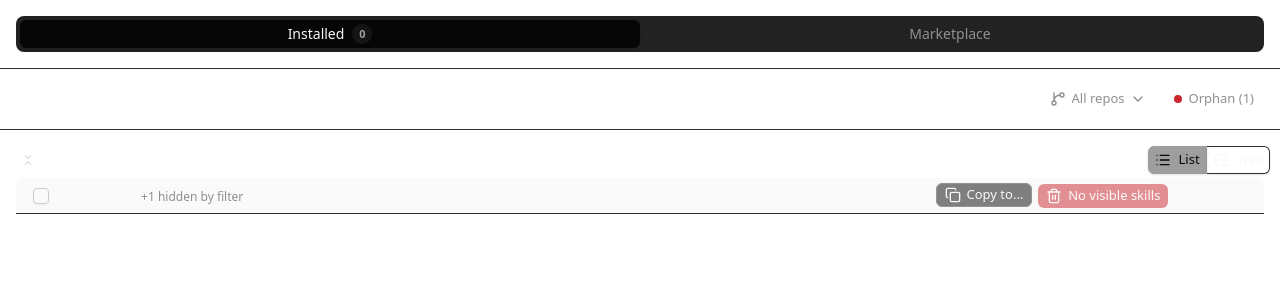
Test: MainContent list header integration › disables Copy to… with a reason while the source-view Orphan toggle owns the list
Click the button with aria-label "Orphan view, show 1 orphaned skill" at (1214, 99), box 1164,85 -> 1264,113
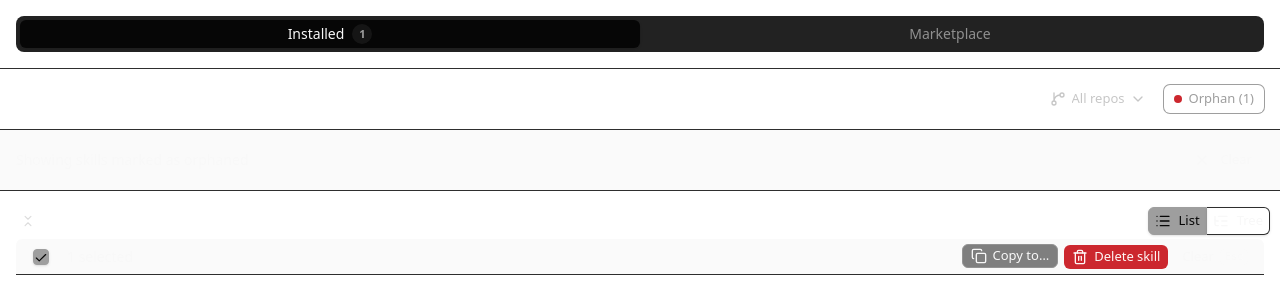
Expected: the button with aria-label "Orphaned skills have no source directory to copy" is disabled, 962,244 -> 1058,268
Expected: the button with aria-label "Orphaned skills have no source directory to copy" is shown, 962,244 -> 1058,268
